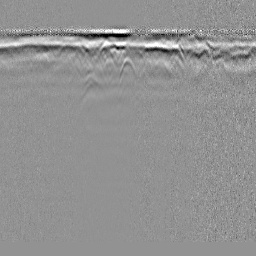cavity: (117, 55, 139, 80)
